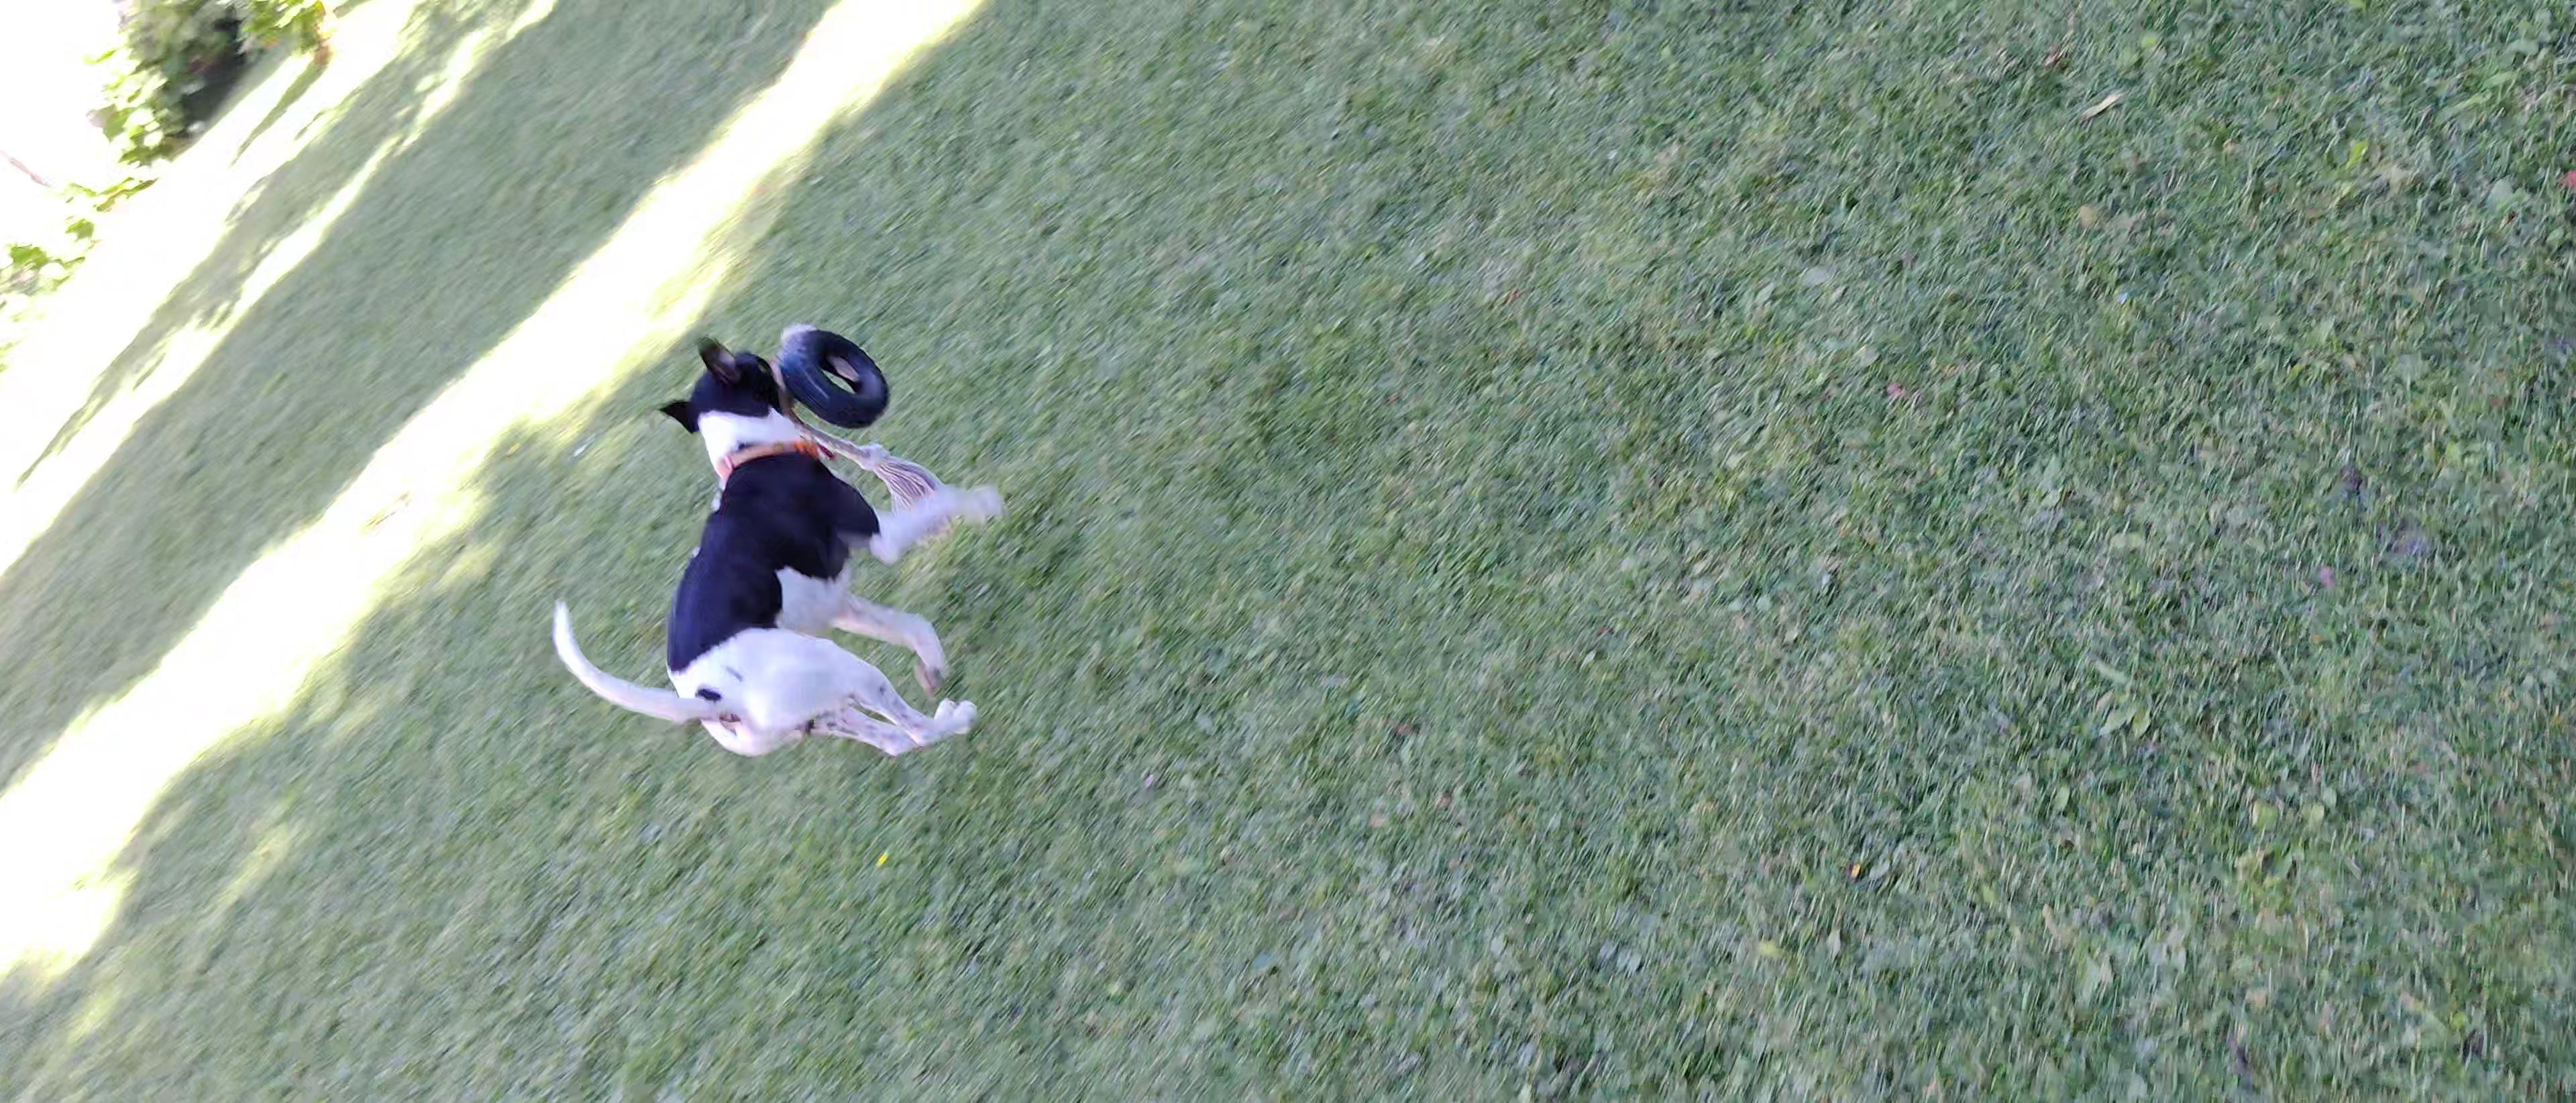Dog: (545, 334, 1019, 763)
